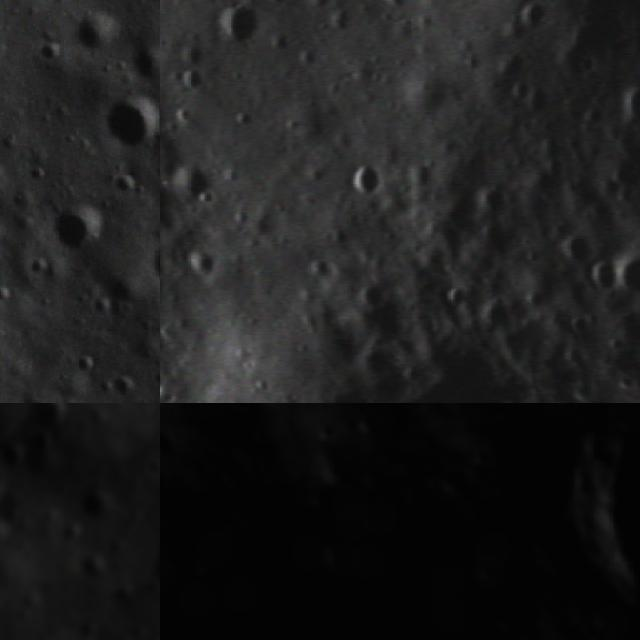crater: (160, 454, 587, 640), (509, 403, 640, 635), (309, 515, 386, 597), (460, 531, 530, 603), (42, 194, 116, 256), (97, 87, 160, 155), (206, 0, 272, 64), (72, 3, 132, 62), (548, 226, 602, 276), (343, 157, 389, 210), (507, 0, 558, 47), (582, 255, 629, 301), (121, 35, 160, 89), (160, 593, 203, 640), (350, 275, 395, 319), (607, 251, 640, 305), (24, 403, 70, 438), (618, 74, 640, 137), (160, 421, 182, 472), (75, 554, 112, 582), (83, 489, 115, 521), (0, 440, 29, 474), (144, 235, 160, 292), (576, 619, 616, 640), (30, 430, 52, 460), (59, 522, 90, 543), (160, 456, 174, 501), (90, 407, 111, 432), (141, 454, 160, 480), (0, 522, 13, 548)
